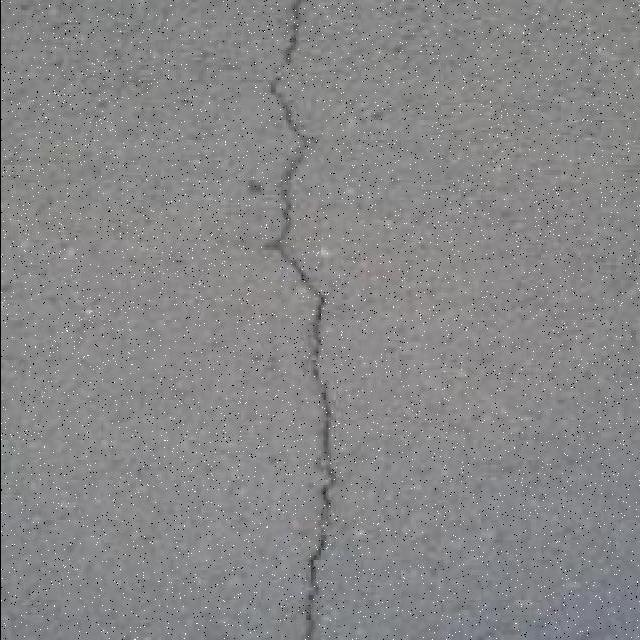Crack: (261, 1, 338, 638)
